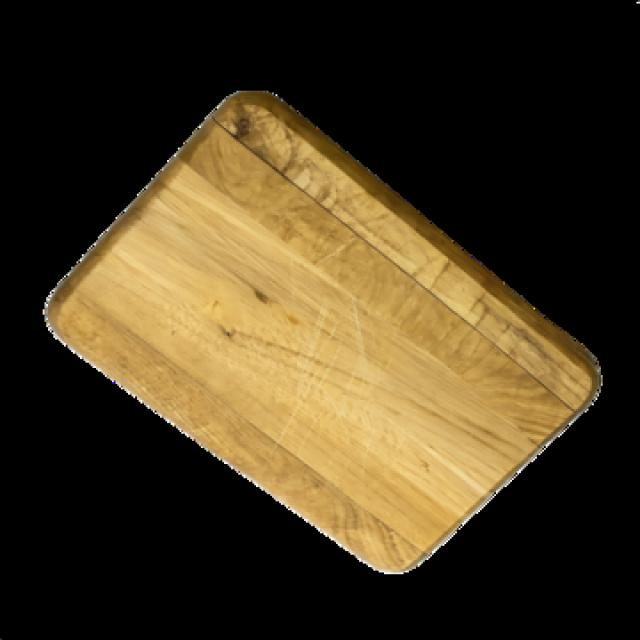Talenan: (55, 71, 608, 584)
